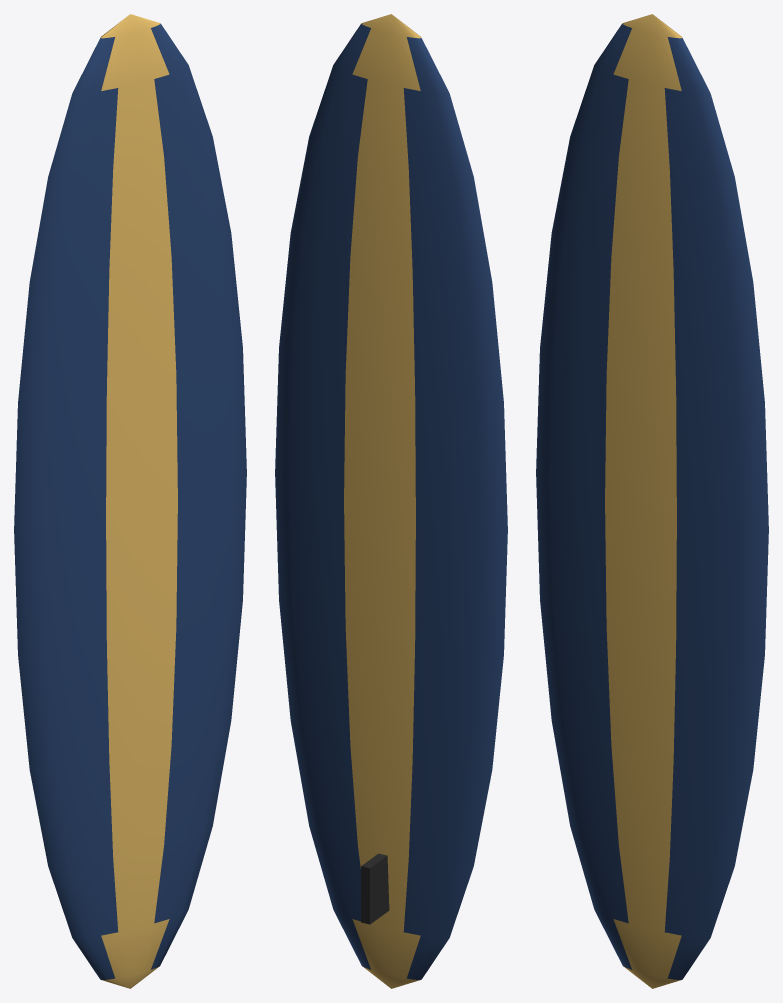
File: b_surf_navy.gltf
The picture shows the model from 3 angles, left to right: view 1: azimuth 30°, elevation 25°; view 2: azimuth 150°, elevation 25°; view 3: azimuth 330°, elevation 25°; orthographic projection.
Parts seen in each view (by area): view 1: b_surf_navy; view 2: b_surf_navy; view 3: b_surf_navy.
Part boxes in pixels (left/top/right/bottom): b_surf_navy: left=14, top=14, right=246, bottom=988; b_surf_navy: left=275, top=14, right=507, bottom=988; b_surf_navy: left=536, top=14, right=768, bottom=988.
Bounding box in the file's own units: 0.52 × 2.08 × 0.1468.
1 material, 1 textured.
